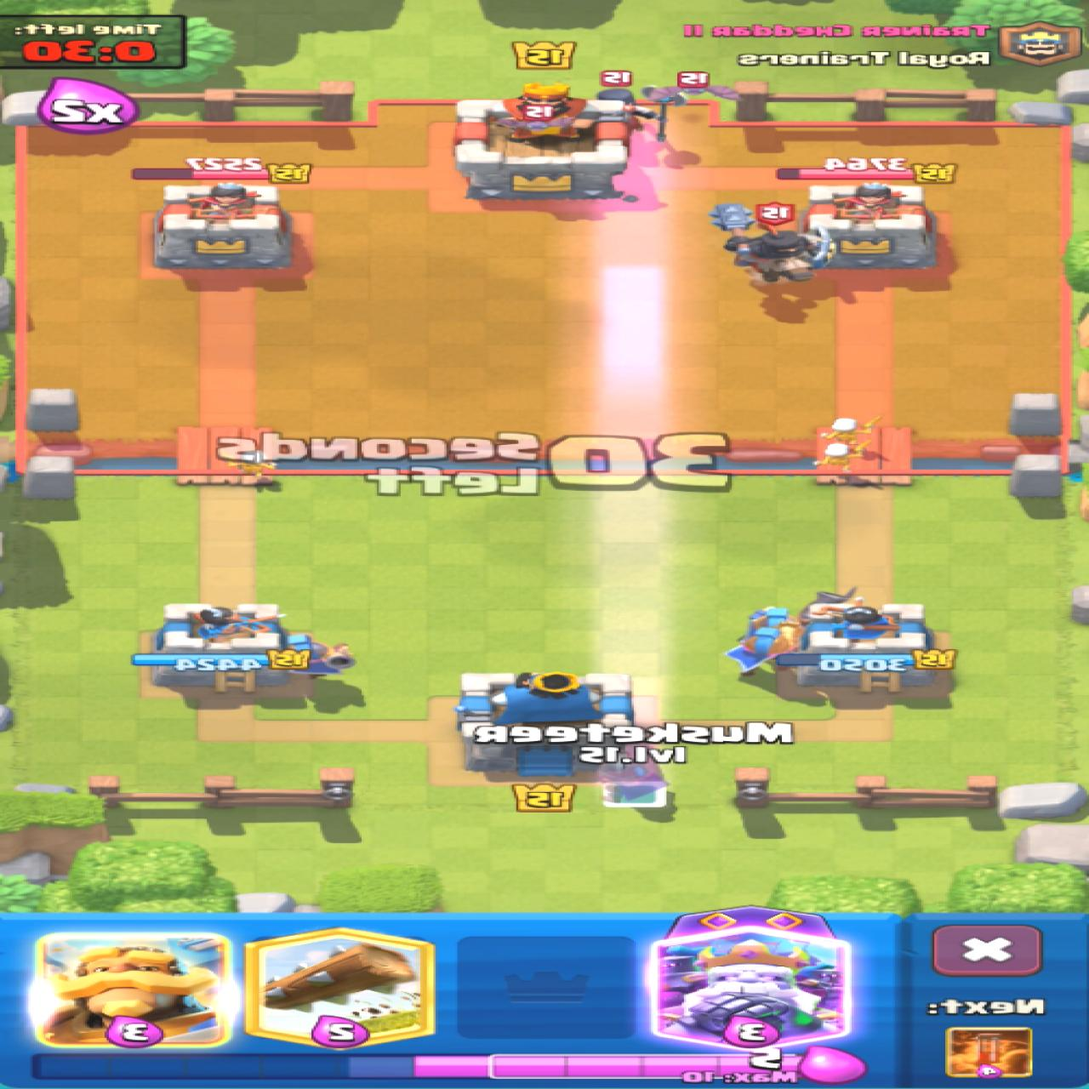Enemy-Bat: (660, 72, 741, 100)
Enemy-DarkPrince-Shield-Charge: (710, 205, 830, 285)
Enemy-KingTower: (457, 83, 629, 198)
Enemy-NightWitch: (601, 86, 686, 141)
Enemy-PrincessTower: (155, 182, 292, 268), (804, 181, 937, 269)
